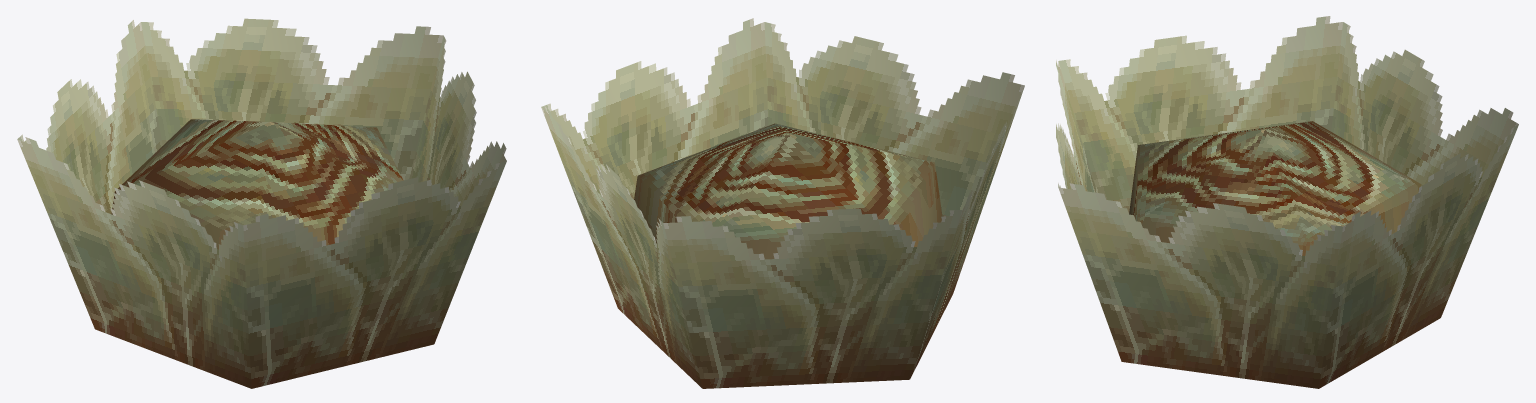
Rendered from westfallcabbage.obj.
3 views of the same model, side by side, from view 1: azimuth 30°, elevation 25°; view 2: azimuth 150°, elevation 25°; view 3: azimuth 270°, elevation 25° (orthographic).
Parts seen in each view (by area): view 1: Geoset1, Geoset0; view 2: Geoset1, Geoset0; view 3: Geoset1, Geoset0.
Boxes of the visible parts, x1=… form: Geoset1: x1=17, y1=18, x2=506, y2=388; Geoset0: x1=111, y1=119, x2=403, y2=249; Geoset1: x1=541, y1=18, x2=1024, y2=388; Geoset0: x1=634, y1=123, x2=942, y2=259; Geoset1: x1=1056, y1=16, x2=1518, y2=388; Geoset0: x1=1129, y1=121, x2=1420, y2=255.
Size of the model in its own units: 0.5783 by 0.2613 by 0.55.
Materials: 2 (2 with a texture image).
